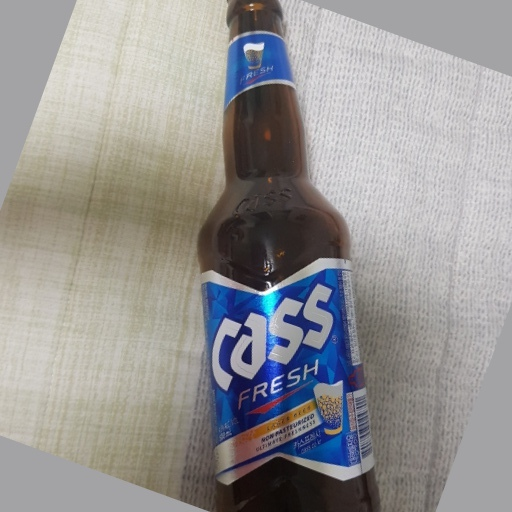Glass_1: (197, 1, 382, 512)
